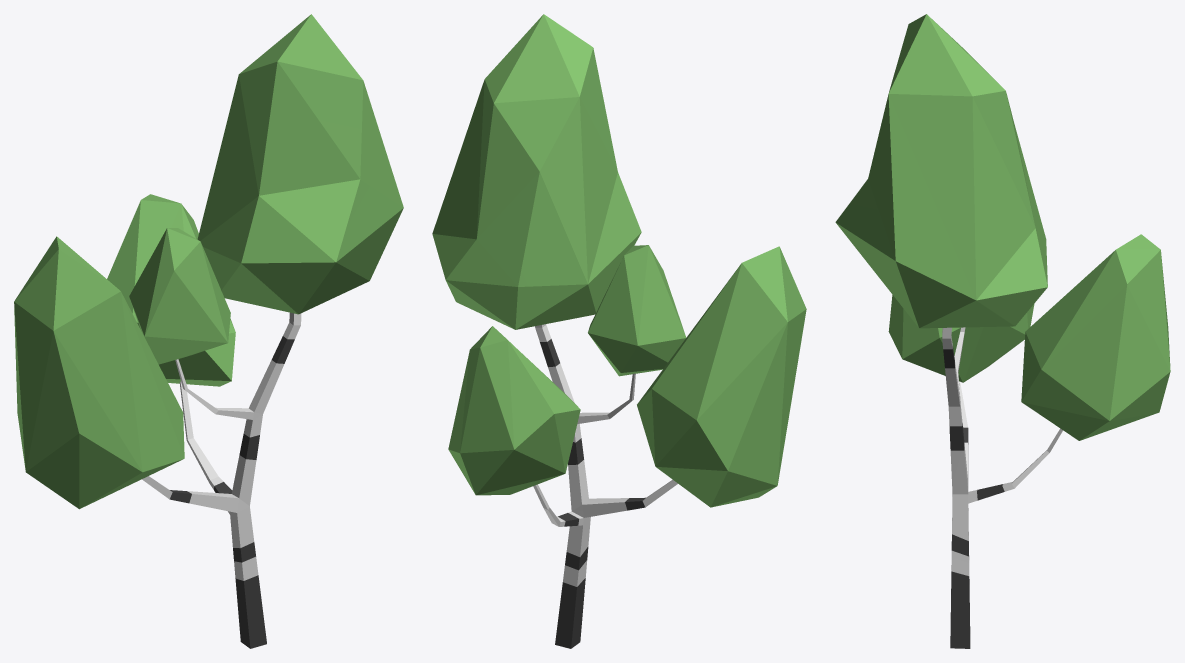
The model's file is Tree_B.fbx.
3 views of the same model, side by side, from view 1: azimuth 30°, elevation 25°; view 2: azimuth 150°, elevation 25°; view 3: azimuth 270°, elevation 25° (orthographic). The views are drawn at different scales.
Parts seen in each view (by area): view 1: Tree B; view 2: Tree B; view 3: Tree B.
Part boxes in pixels (x1=…): Tree B: x1=14, y1=14, x2=403, y2=648; Tree B: x1=432, y1=14, x2=806, y2=648; Tree B: x1=835, y1=14, x2=1170, y2=648.
Bounding box in the file's own units: 549 × 902 × 420.
